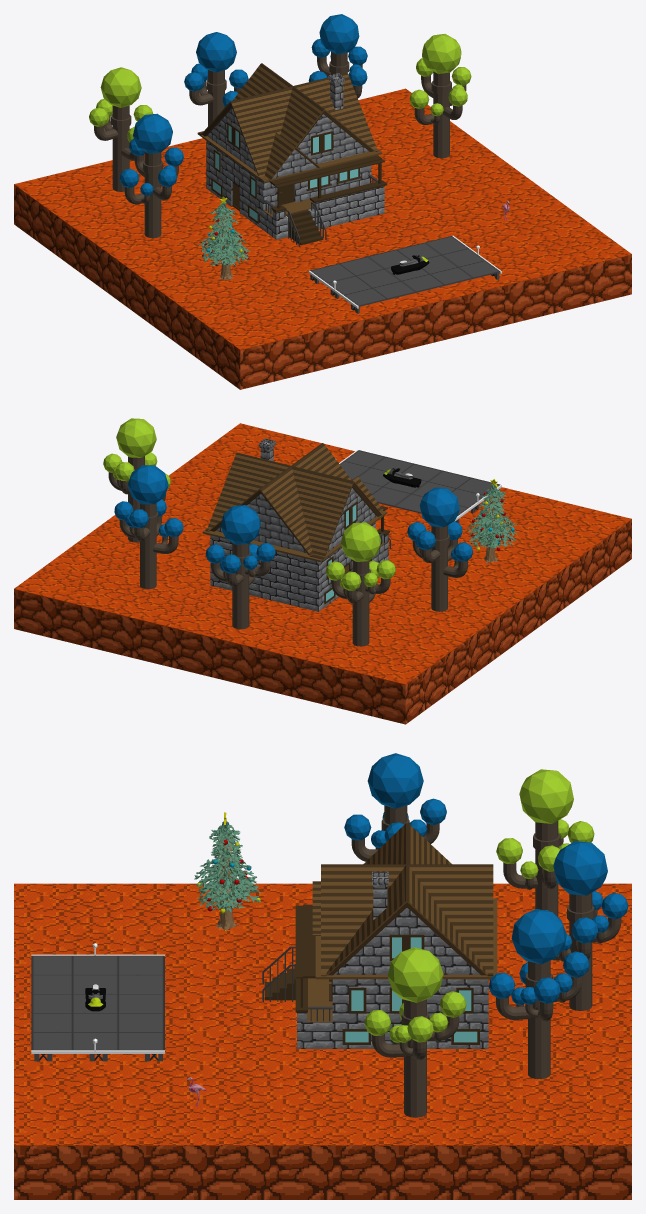
3 views of the same model, one above another, from view 1: azimuth 30°, elevation 25°; view 2: azimuth 150°, elevation 25°; view 3: azimuth 270°, elevation 25° (orthographic). The views are drawn at different scales.
Parts seen in each view (by area): view 1: Cube.001, Cube.586, OBJRANDOM_CHRISTMAS_TREE; view 2: Cube.001, Cube.586, OBJRANDOM_CHRISTMAS_TREE, VEHICLES_WATERBIKE; view 3: Cube.001, Cube.586, OBJRANDOM_CHRISTMAS_TREE.
Boxes of the visible parts, x1=… form: Cube.001: x1=14, y1=14, x2=631, y2=389; Cube.586: x1=197, y1=63, x2=387, y2=246; OBJRANDOM_CHRISTMAS_TREE: x1=198, y1=196, x2=250, y2=280; Cube.001: x1=14, y1=418, x2=631, y2=724; Cube.586: x1=202, y1=438, x2=390, y2=611; OBJRANDOM_CHRISTMAS_TREE: x1=466, y1=479, x2=516, y2=563; VEHICLES_WATERBIKE: x1=383, y1=468, x2=421, y2=487; Cube.001: x1=14, y1=753, x2=631, y2=1199; Cube.586: x1=262, y1=823, x2=497, y2=1048; OBJRANDOM_CHRISTMAS_TREE: x1=194, y1=812, x2=261, y2=930.
Size of the model in its own units: 4000 by 1664 by 4000.
33 materials, 5 textured.
